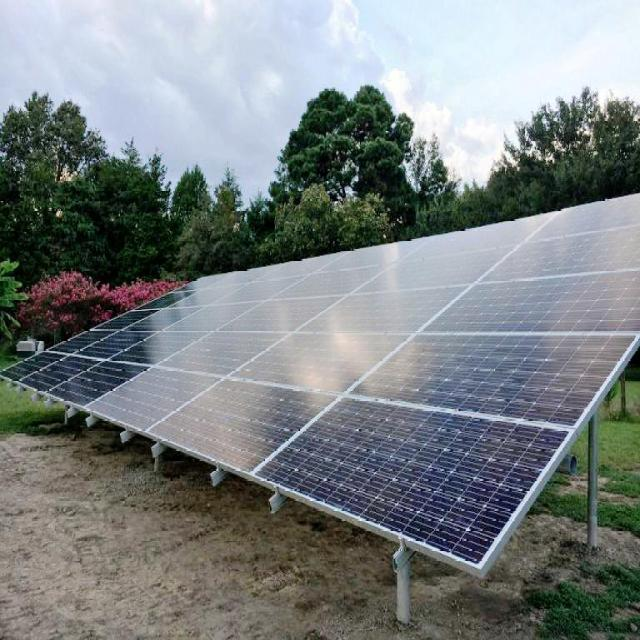no faulty: (256, 395, 590, 566), (350, 327, 638, 428), (146, 375, 328, 482), (430, 268, 640, 352), (234, 332, 418, 397), (511, 224, 637, 292), (94, 364, 214, 426), (298, 292, 449, 332), (165, 327, 289, 372), (372, 256, 506, 294), (28, 352, 104, 392), (236, 300, 328, 332), (82, 327, 158, 363), (276, 270, 360, 300)
